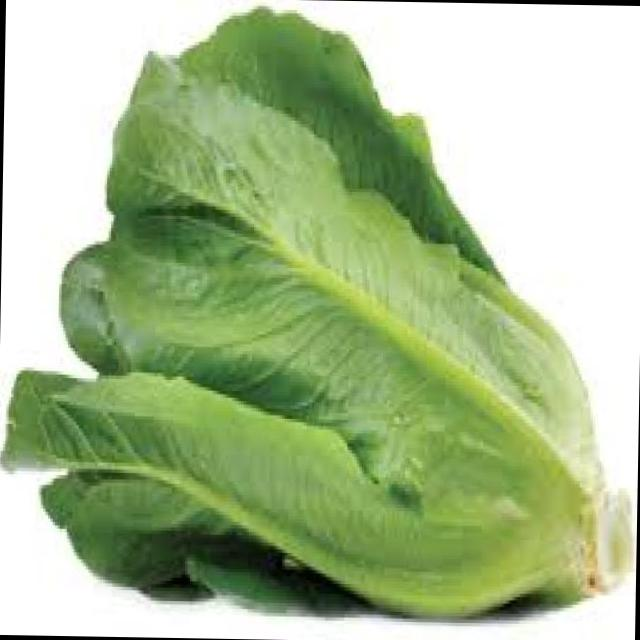Lettuce-Ready-to-Harvest: (5, 9, 602, 616)
